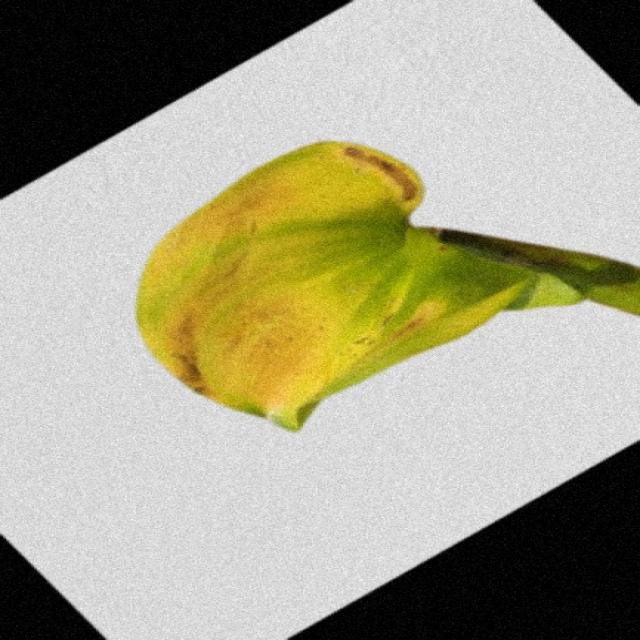daun berpenyakit kuning: (137, 142, 638, 431)
